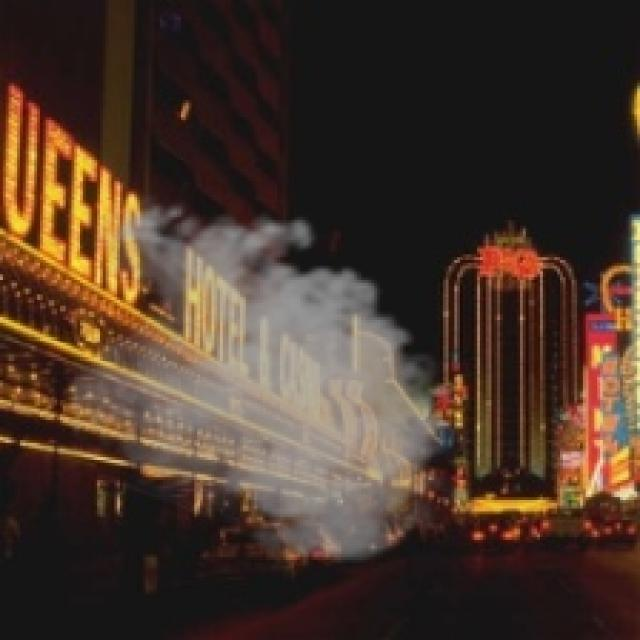Smoke: (68, 192, 466, 572)
